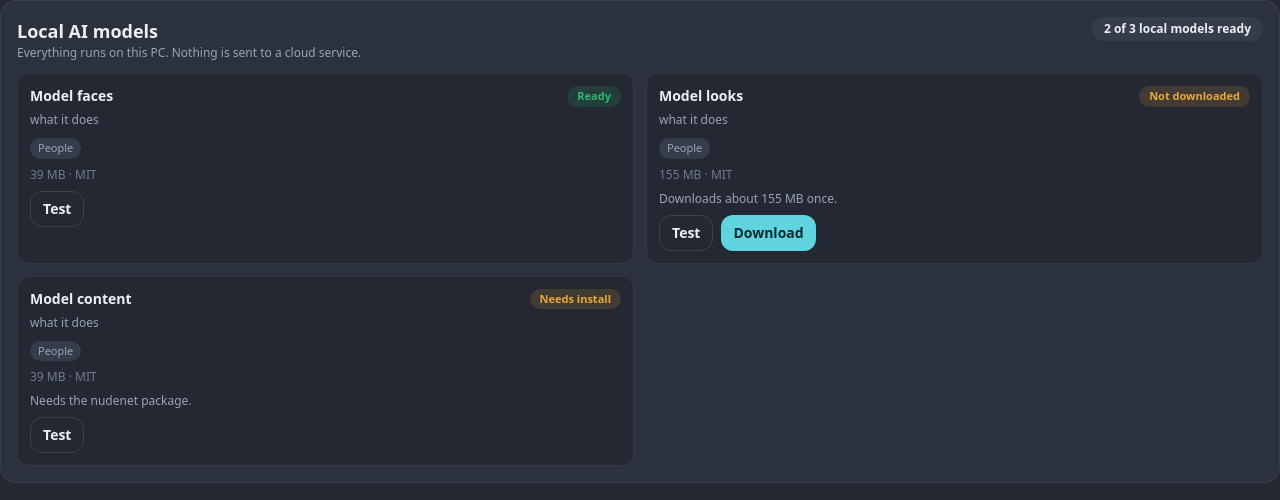
Scenario: Local AI models › Test runs the self-test and says whether it works, with the time
The image size is (1280, 500).
Click the button "Test" below "Model faces" at point(57, 208), box x1=30 y1=190 x2=84 y2=226
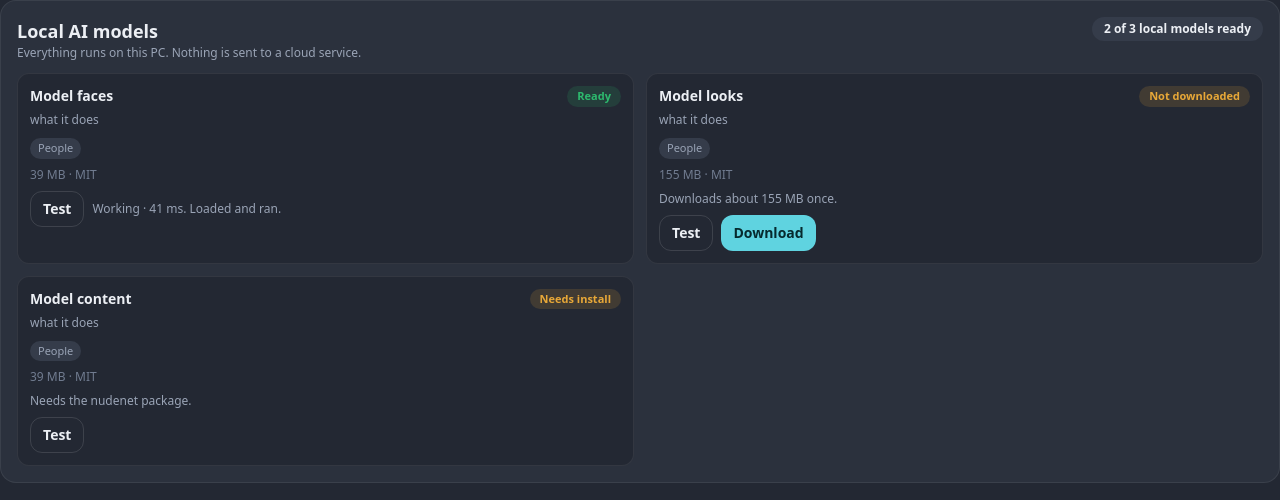
Now the text "Working · 41 ms. Loaded and ran." is shown, box x1=92 y1=200 x2=281 y2=216
